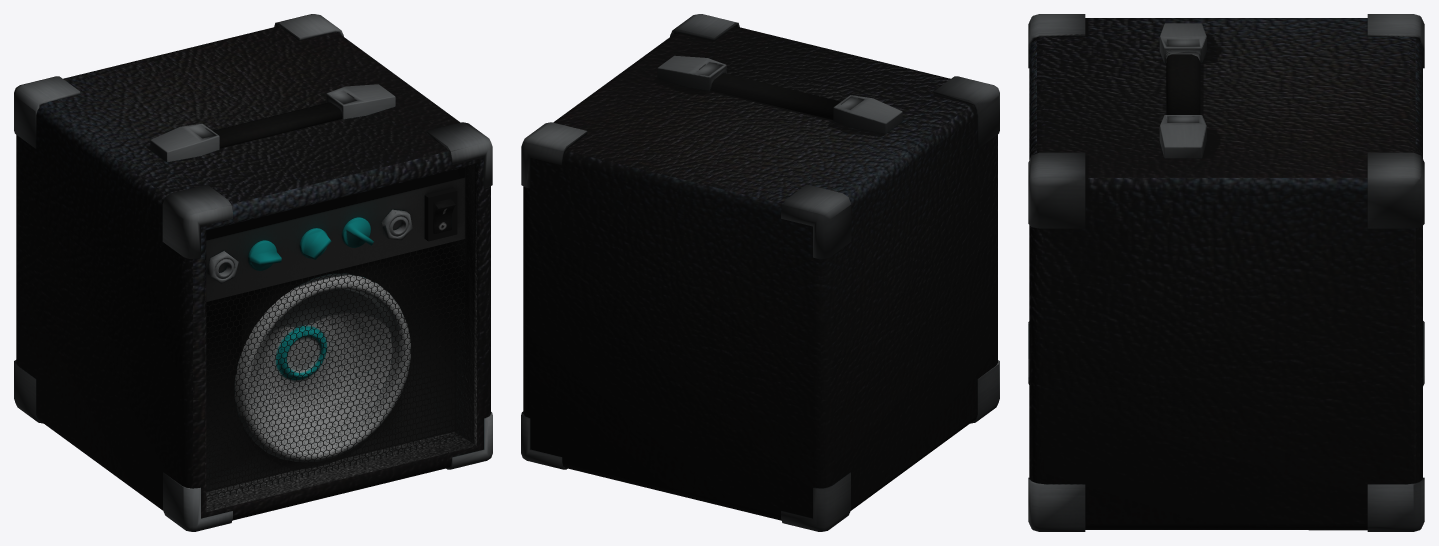
Rendered from ampShapeKeys.fbx.
3 views of the same model, side by side, from view 1: azimuth 30°, elevation 25°; view 2: azimuth 150°, elevation 25°; view 3: azimuth 270°, elevation 25° (orthographic). The views are drawn at different scales.
Parts seen in each view (by area): view 1: Cube; view 2: Cube; view 3: Cube.
Boxes of the visible parts, <box> form: Cube: <box>14,14,492,531</box>; Cube: <box>521,14,999,531</box>; Cube: <box>1028,14,1424,531</box>.
Bounding box in the file's own units: 223 × 231 × 223.
4 materials, 4 textured.
